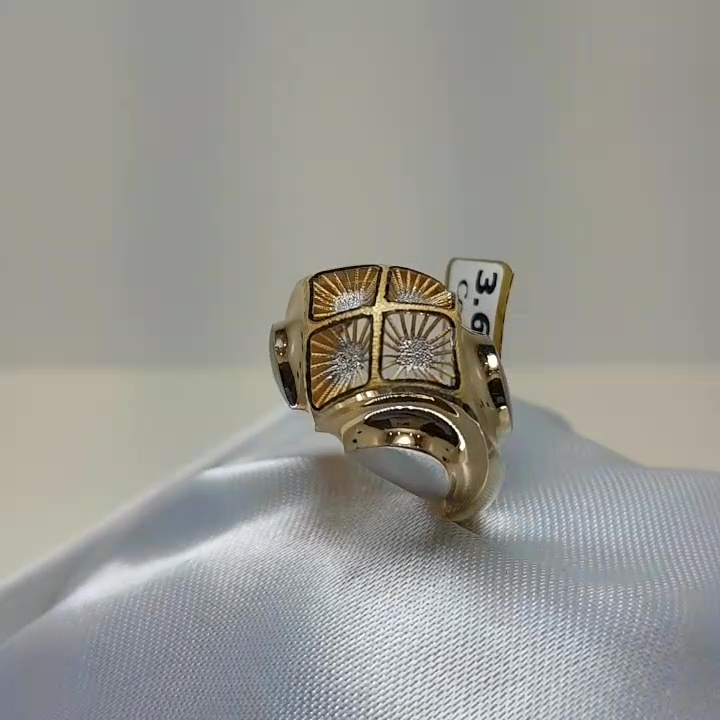Ring 2: (266, 254, 570, 545)
